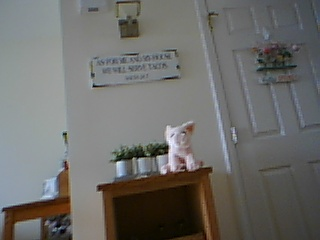piggy: (160, 120, 206, 174)
